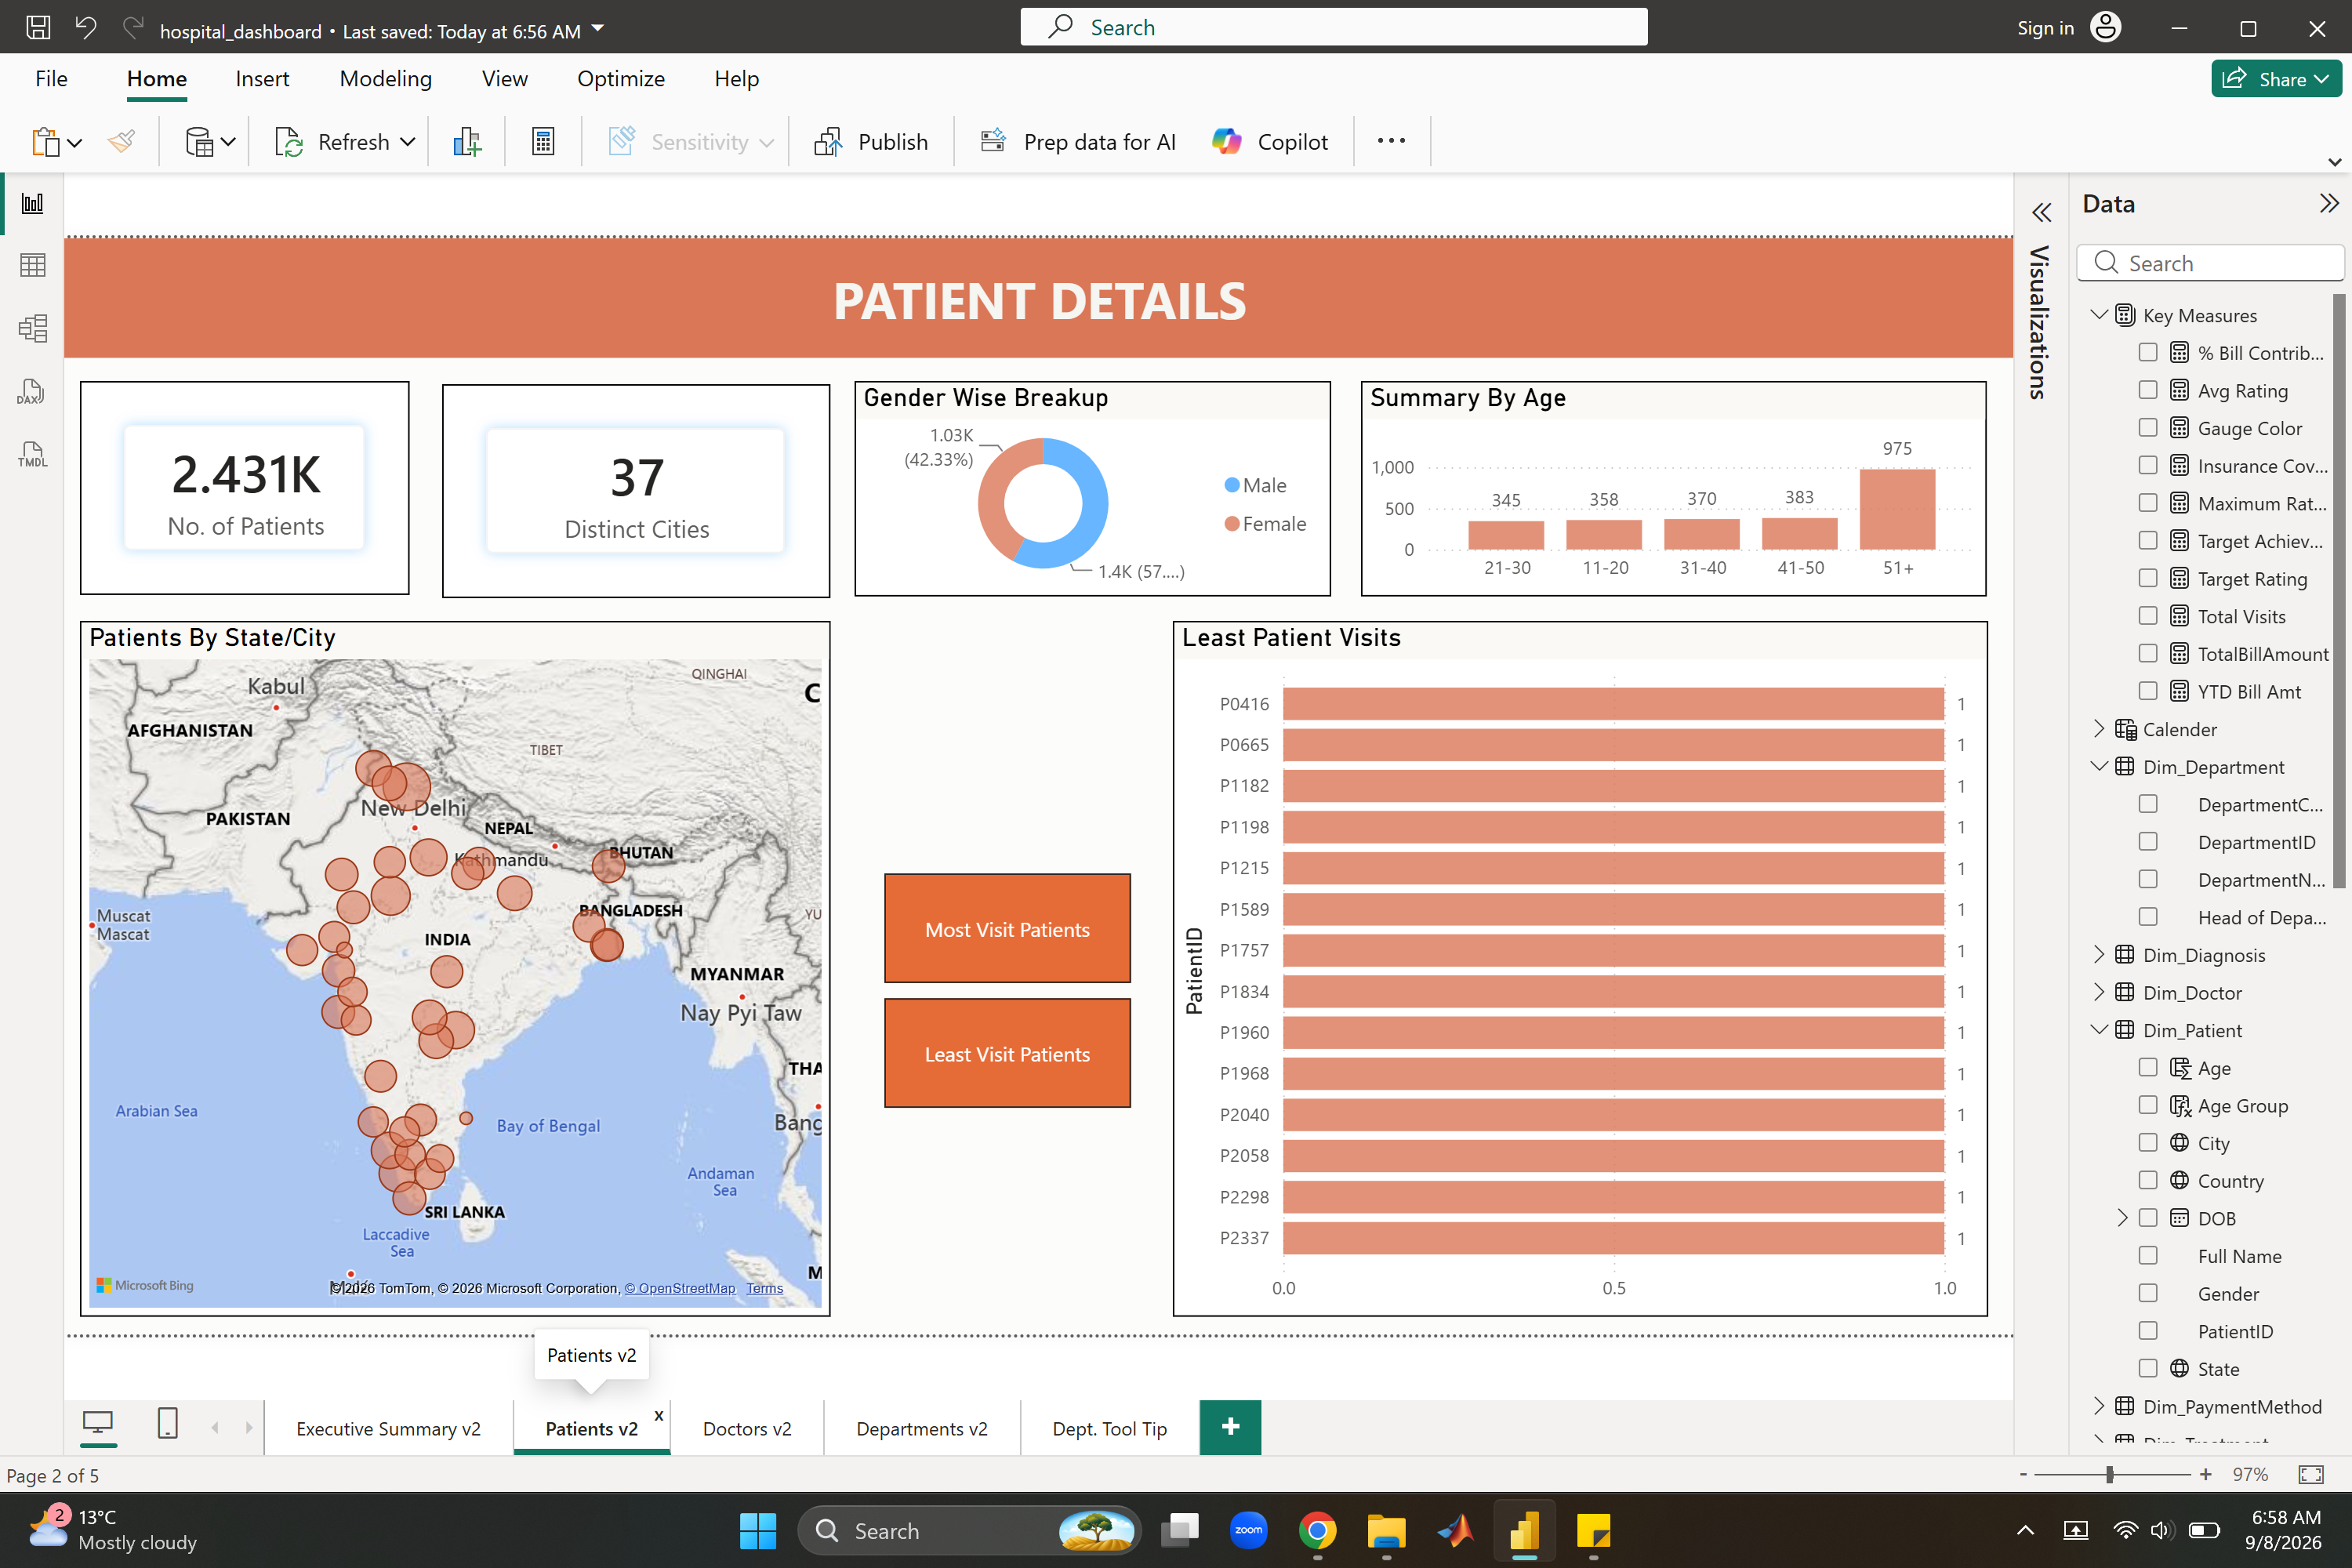

Layout of this report page (visuals, bound fields, positions):
{"tool":"powerbi","page":{"name":"Patients v2","canvas":[1280,720],"ordinal":1},"visuals":[{"type":"shape","box":[0,0,1281.3,78.6],"z":0},{"type":"donutChart","title":"Gender Wise Breakup","fields":{"Category":["Dim_Patient.Gender"],"Y":["CountNonNull(Dim_Patient.PatientID)"]},"box":[519,94,312.9,141.6],"z":2000},{"type":"cardVisual","fields":{"Data":["CountNonNull(Dim_Patient.PatientID)"]},"box":[10.3,94,216.3,140.4],"z":3000},{"type":"cardVisual","fields":{"Data":["Count(Dim_Patient.City)"]},"box":[248.5,95.3,255,140.4],"z":4000},{"type":"map","title":"Patients By State/City","fields":{"Category":["Dim_Patient.State","Dim_Patient.City"],"Size":["CountNonNull(Dim_Patient.PatientID)"]},"box":[10.3,251.1,493.2,457.1],"z":5000},{"type":"clusteredColumnChart","title":"Summary By Age","fields":{"Category":["Dim_Patient.Age Group"],"Y":["CountNonNull(Dim_Patient.PatientID)"]},"box":[851.2,94,410.8,141.6],"z":6000},{"type":"clusteredBarChart","title":"Least Patient Visits","fields":{"Category":["fact_patientVisits.PatientID"],"Y":["CountNonNull(fact_patientVisits.VisitID)"]},"box":[727.6,251.1,535.7,457.1],"z":8000},{"type":"bookmarkNavigator","box":[538.3,417.2,162.3,155.8],"z":9000}]}

Visuals, with their boxes on the page's 1280x720 design canvas (x1, y1, x2, y2). These are canvas units, not pixel positions in the 2352x1568 screenshot, which may show the page scaled, cropped or inside an application window:
shape: locate(0, 0, 1281, 79)
"Gender Wise Breakup" donutChart: locate(519, 94, 832, 236)
cardVisual - CountNonNull(Dim_Patient.PatientID): locate(10, 94, 227, 234)
cardVisual - Count(Dim_Patient.City): locate(248, 95, 504, 236)
"Patients By State/City" map: locate(10, 251, 504, 708)
"Summary By Age" clusteredColumnChart: locate(851, 94, 1262, 236)
"Least Patient Visits" clusteredBarChart: locate(728, 251, 1263, 708)
bookmarkNavigator: locate(538, 417, 701, 573)
